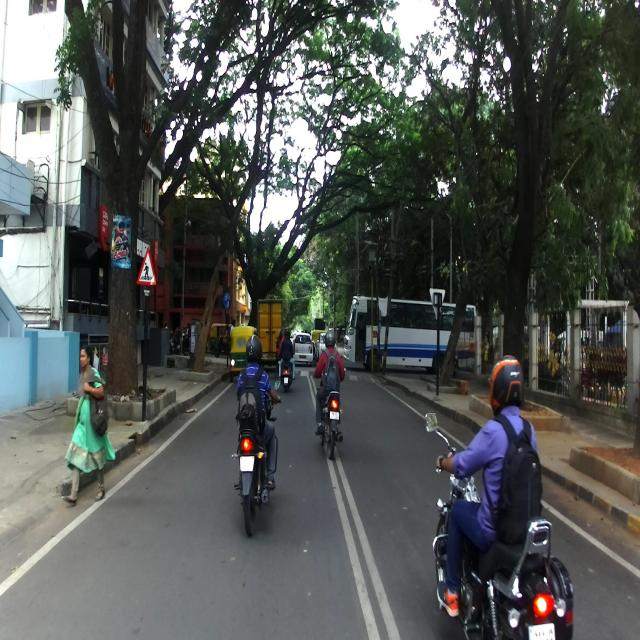motorcycle: (424, 412, 573, 640), (230, 377, 282, 537), (312, 364, 346, 459)
